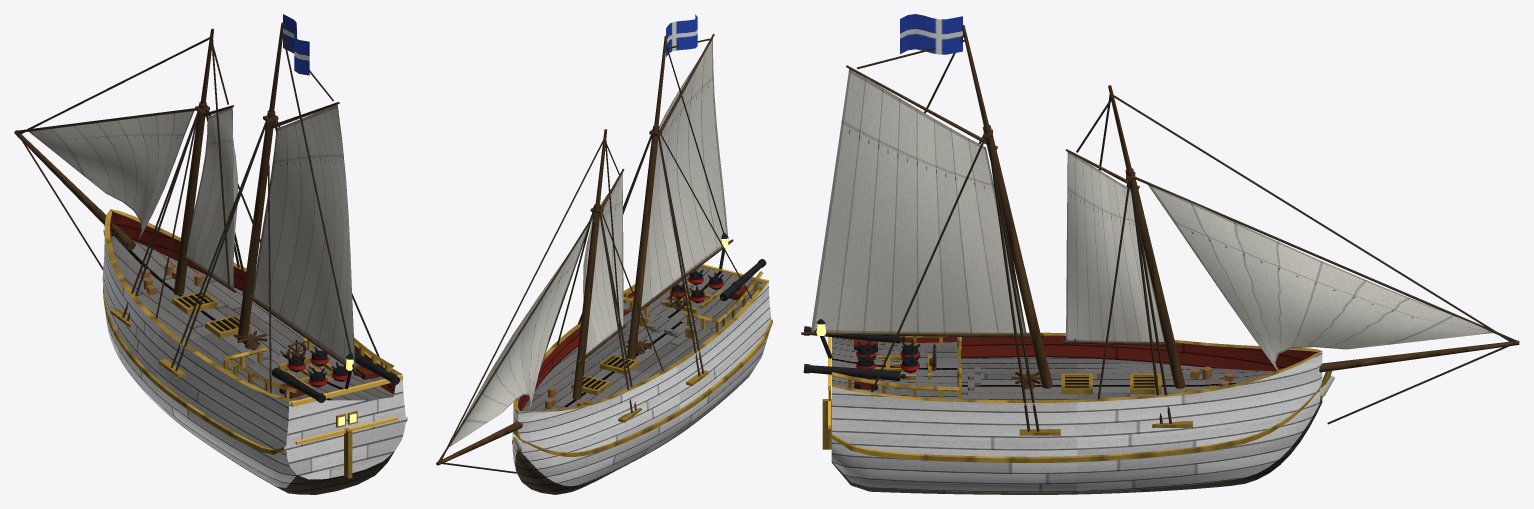
The model's file is enemy_runner.glb.
3 views of the same model, side by side, from view 1: azimuth 30°, elevation 25°; view 2: azimuth 150°, elevation 25°; view 3: azimuth 270°, elevation 25° (orthographic). The views are drawn at different scales.
Parts seen in each view (by area): view 1: Hull, Sail1_0, Rigging, Jib, Sail0_0, Guns0, Flag; view 2: Hull, Sail1_0, Rigging, Jib, Sail0_0, Flag, Guns0; view 3: Hull, Sail1_0, Jib, Rigging, Sail0_0, Flag, Guns0.
Part boxes in pixels (<box>): Hull: <box>102,209,407,494</box>; Sail1_0: <box>253,104,355,370</box>; Rigging: <box>14,22,383,393</box>; Jib: <box>29,111,194,240</box>; Sail0_0: <box>186,107,237,288</box>; Guns0: <box>271,351,399,402</box>; Flag: <box>283,14,309,75</box>; Hull: <box>512,233,772,494</box>; Sail1_0: <box>641,38,728,306</box>; Rigging: <box>436,33,751,473</box>; Jib: <box>449,225,588,446</box>; Sail0_0: <box>583,173,623,354</box>; Flag: <box>666,14,697,56</box>; Guns0: <box>720,259,766,300</box>; Hull: <box>816,319,1334,494</box>; Sail1_0: <box>811,69,1025,333</box>; Jib: <box>1148,184,1492,370</box>; Rigging: <box>801,25,1519,431</box>; Sail0_0: <box>1066,152,1164,342</box>; Flag: <box>900,14,962,54</box>; Guns0: <box>803,326,905,390</box>.
Size of the model in its own units: 0.7028 by 1.92 by 2.71.
19 materials, 8 textured.
